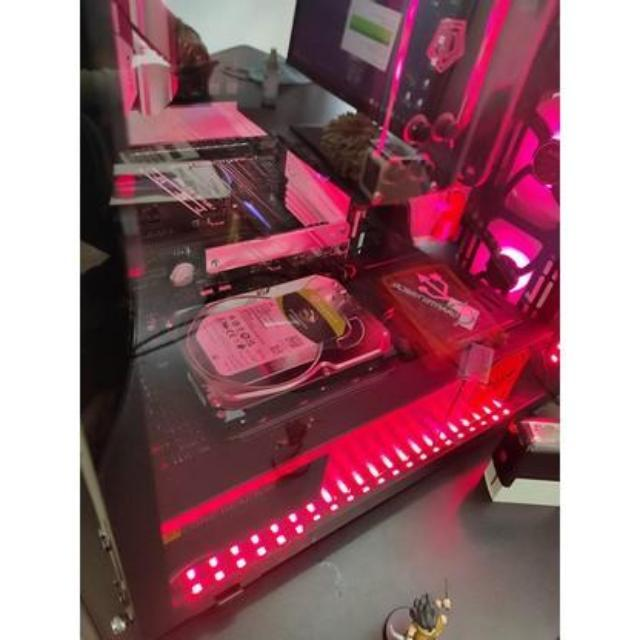DISK: (163, 274, 392, 423)
